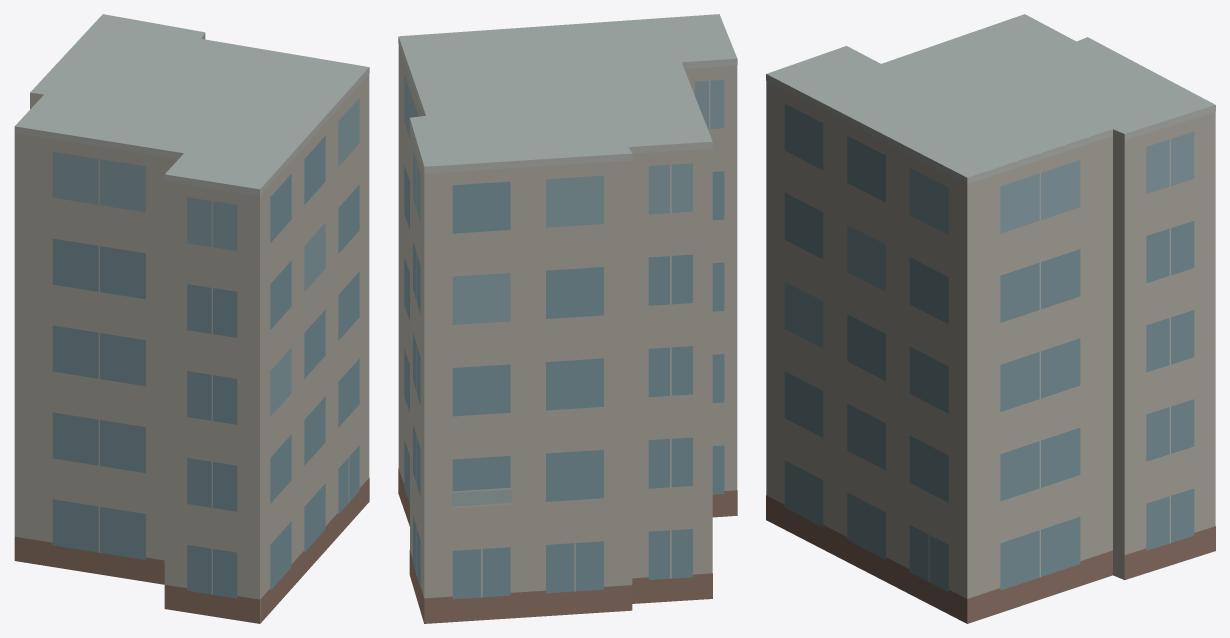
The model's file is survey-upis-32929187.glb.
The picture shows the model from 3 angles, left to right: view 1: azimuth 30°, elevation 25°; view 2: azimuth 150°, elevation 25°; view 3: azimuth 270°, elevation 25°; orthographic projection. The views are drawn at different scales.
Visible parts, largest first — view 1: survey-upis-32929187.tmp; view 2: survey-upis-32929187.tmp; view 3: survey-upis-32929187.tmp.
Boxes of the visible parts, bbox=[...] form: survey-upis-32929187.tmp: bbox=[14, 14, 369, 623]; survey-upis-32929187.tmp: bbox=[398, 14, 737, 623]; survey-upis-32929187.tmp: bbox=[766, 14, 1215, 623].
Bounding box in the file's own units: 12.88 × 16.35 × 14.94.
